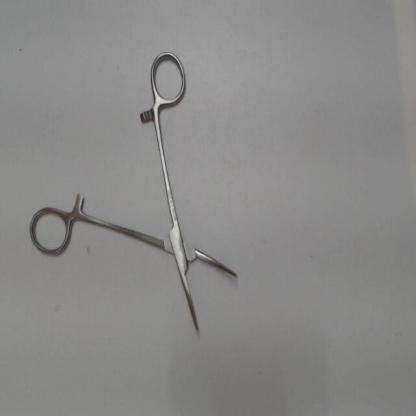Crile Artery Forceps: (25, 45, 244, 337)
